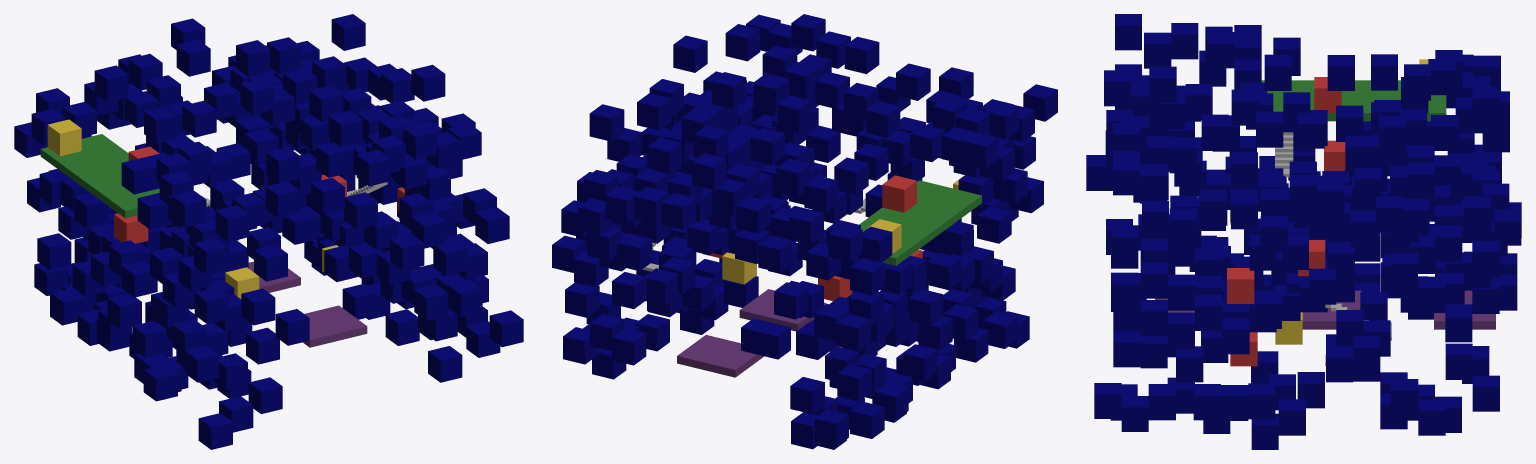
Rendered from l4Blockout.fbx.
3 views of the same model, side by side, from view 1: azimuth 30°, elevation 25°; view 2: azimuth 150°, elevation 25°; view 3: azimuth 270°, elevation 25° (orthographic). The views are drawn at different scales.
Parts seen in each view (by area): view 1: upp_cubes_L, upp_cubes_R, low_cubes_L, mid_cubes_L, mid_cubes_R, low_cubes_R, upp_platform, movePlatform01, upp_glitch, mid_Victim01, mid_glitch, movePlatform02; view 2: upp_cubes_R, upp_cubes_L, mid_cubes_L, low_cubes_L, mid_cubes_R, low_cubes_R, upp_platform, movePlatform03, movePlatform02, upp_Victim, low_glitch, mid_Victim02; view 3: upp_cubes_R, mid_cubes_R, upp_cubes_L, low_cubes_R, mid_cubes_L, low_cubes_L, upp_platform, mid_Victim04, movePlatform02, upp_Victim, movePlatform03, mid_Victim01 (+4 smaller).
Part boxes in pixels (bbox=[...]): upp_cubes_L: bbox=[14, 40, 344, 274]; upp_cubes_R: bbox=[171, 14, 481, 228]; low_cubes_L: bbox=[34, 233, 282, 449]; mid_cubes_L: bbox=[27, 143, 316, 345]; mid_cubes_R: bbox=[250, 84, 509, 303]; low_cubes_R: bbox=[260, 173, 523, 382]; upp_platform: bbox=[40, 134, 159, 218]; movePlatform01: bbox=[303, 305, 367, 347]; upp_glitch: bbox=[47, 119, 81, 156]; mid_Victim01: bbox=[114, 213, 148, 243]; mid_glitch: bbox=[225, 267, 259, 298]; movePlatform02: bbox=[248, 261, 300, 292]; upp_cubes_R: bbox=[577, 14, 879, 235]; upp_cubes_L: bbox=[736, 63, 1057, 295]; mid_cubes_L: bbox=[741, 117, 1043, 359]; low_cubes_L: bbox=[790, 250, 1029, 449]; mid_cubes_R: bbox=[552, 107, 840, 309]; low_cubes_R: bbox=[563, 202, 802, 379]; upp_platform: bbox=[859, 180, 981, 265]; movePlatform03: bbox=[677, 335, 763, 377]; movePlatform02: bbox=[739, 289, 826, 331]; upp_Victim: bbox=[882, 175, 916, 212]; low_glitch: bbox=[722, 252, 756, 284]; mid_Victim02: bbox=[818, 276, 852, 300]; upp_cubes_R: bbox=[1106, 87, 1521, 261]; mid_cubes_R: bbox=[1111, 187, 1499, 362]; upp_cubes_L: bbox=[1104, 14, 1509, 152]; low_cubes_R: bbox=[1094, 273, 1499, 449]; mid_cubes_L: bbox=[1086, 121, 1521, 256]; low_cubes_L: bbox=[1111, 198, 1517, 319]; upp_platform: bbox=[1261, 80, 1446, 121]; mid_Victim04: bbox=[1227, 268, 1254, 303]; movePlatform02: bbox=[1302, 290, 1361, 329]; upp_Victim: bbox=[1314, 77, 1341, 112]; movePlatform03: bbox=[1434, 290, 1495, 329]; mid_Victim01: bbox=[1324, 140, 1345, 170].
Bounding box in the file's own units: 2453 × 1881 × 2400.
